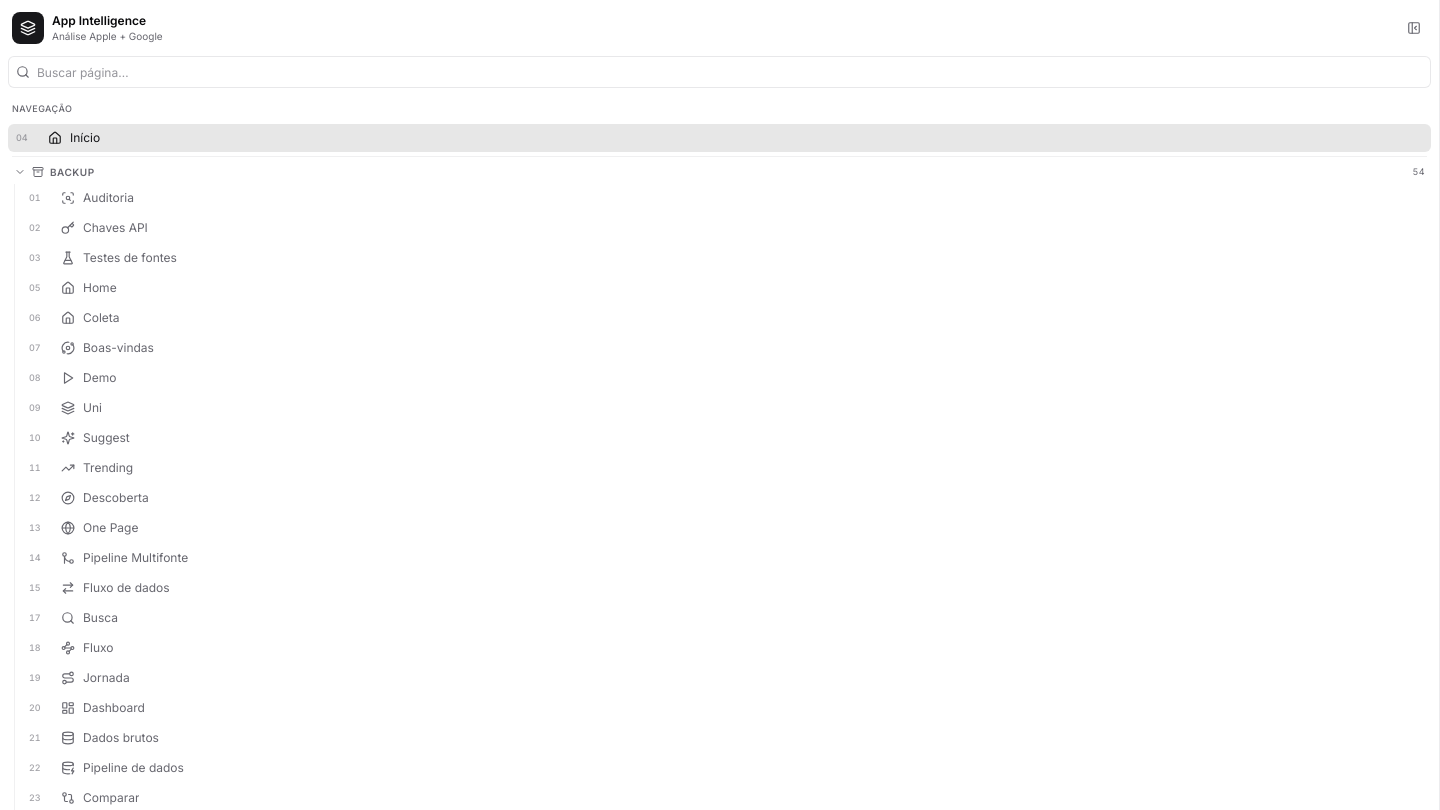
Test: LeftSidebar — busca do menu › empty state honesto quando nada corresponde
Type "xyz-inexistente" into the search field named "Buscar página no menu" at (720, 72), box [8,56,1431,88]
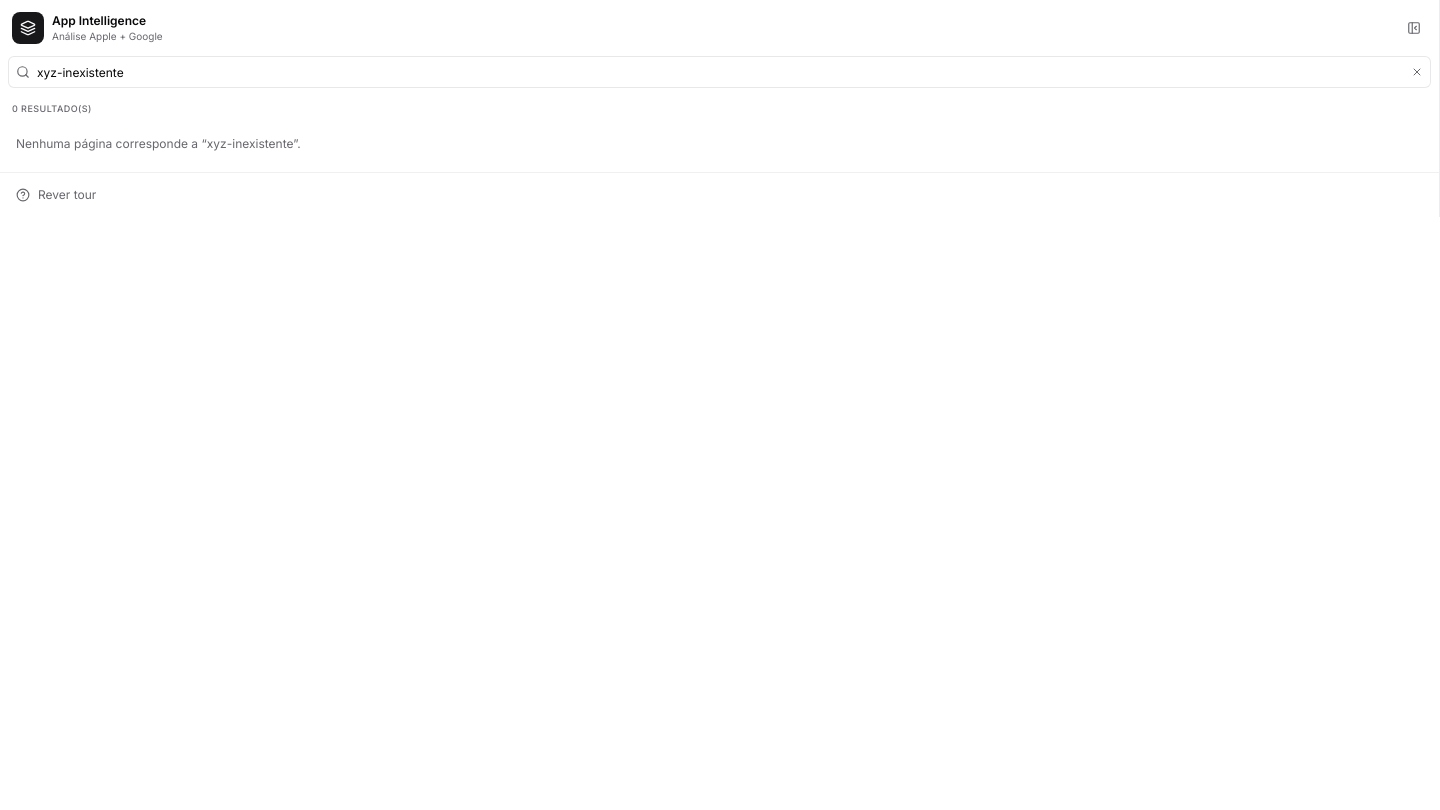
Now the text "Nenhuma página corresponde a “xyz-inexistente”." is shown, box [16,136,301,150]
